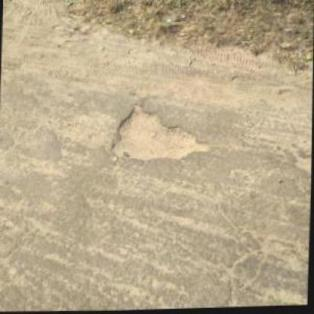Hueco: (108, 99, 214, 167)
